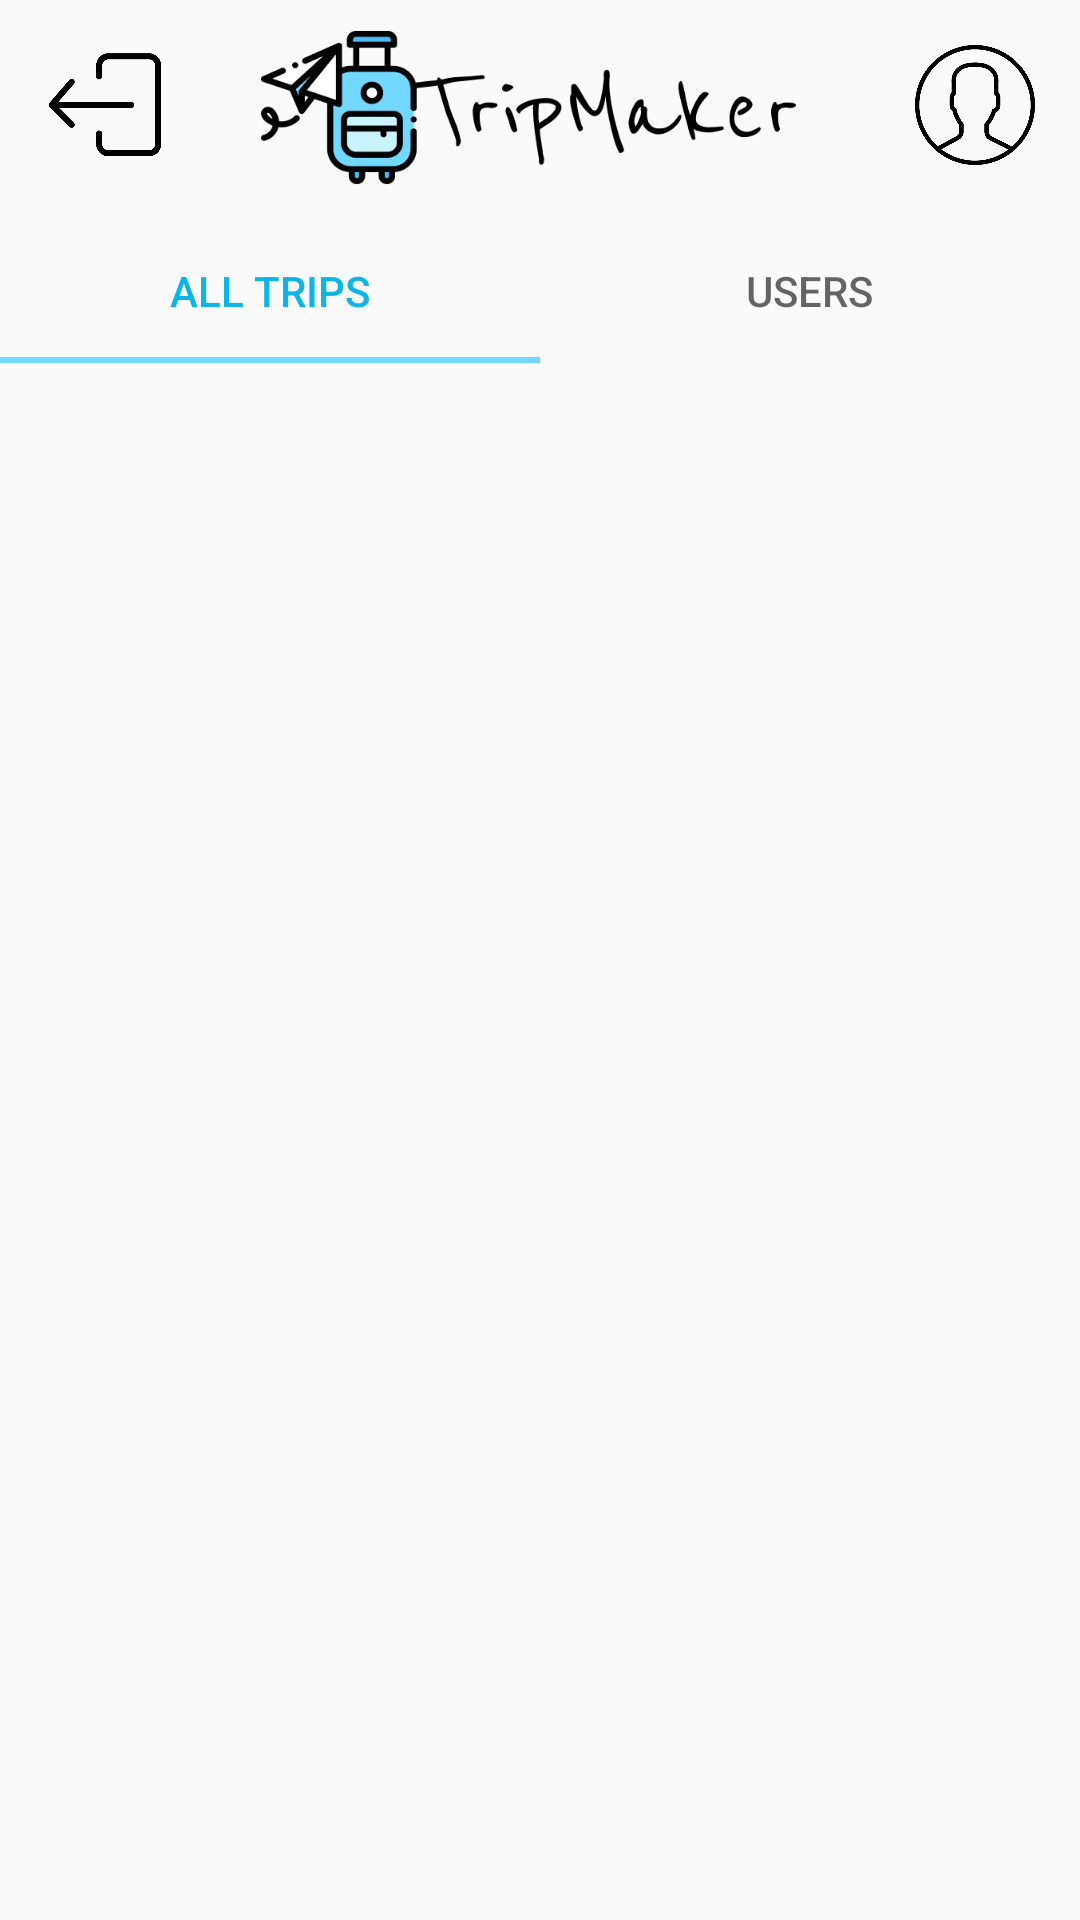

Screen size 1080*1920. Icon name, then its box in pixels as (x1, y1, x2, y2):
userprofile: (915, 45, 1035, 165)
